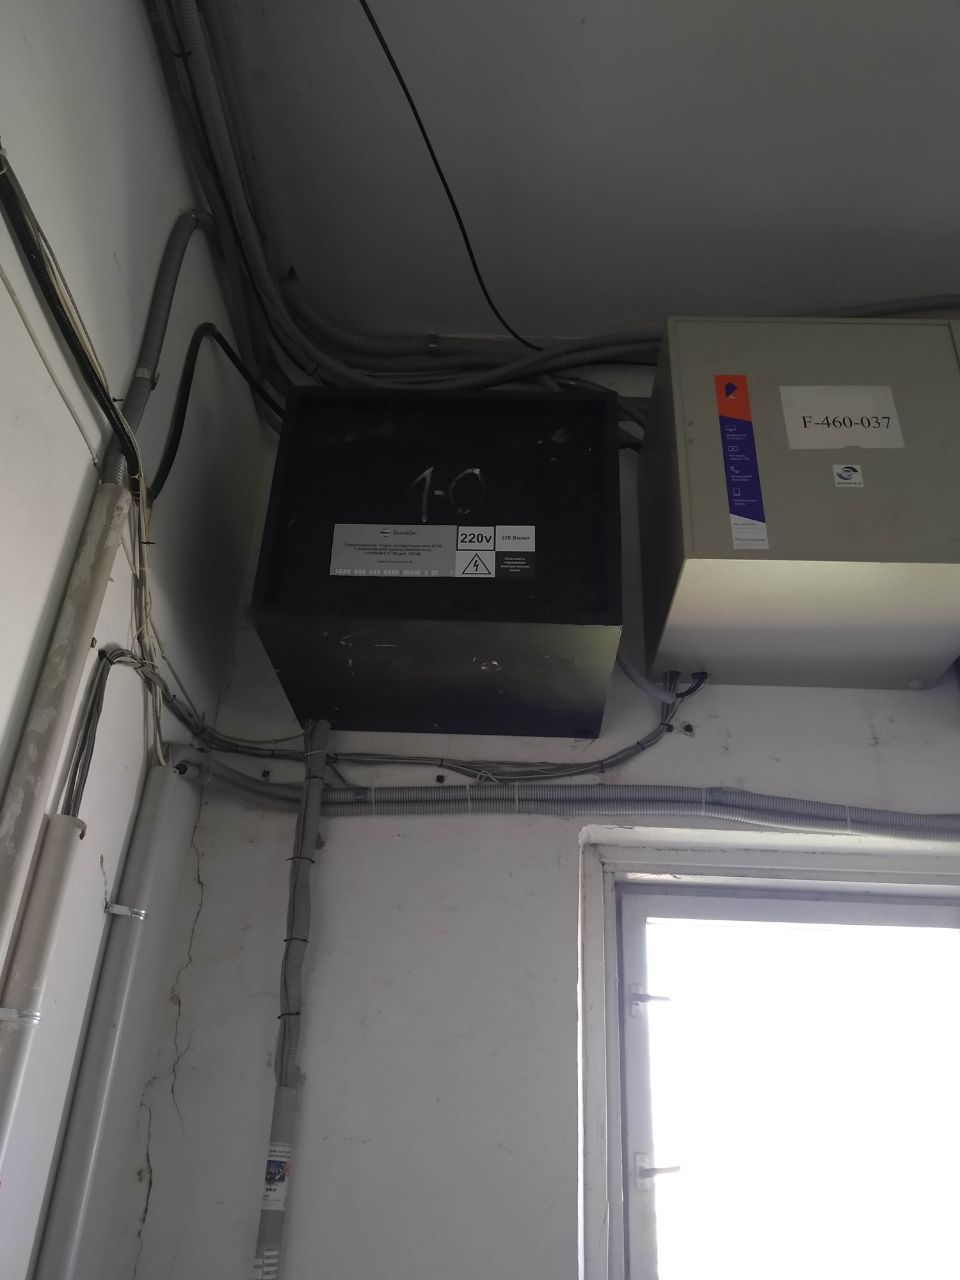shta-9m: (237, 376, 626, 750)
